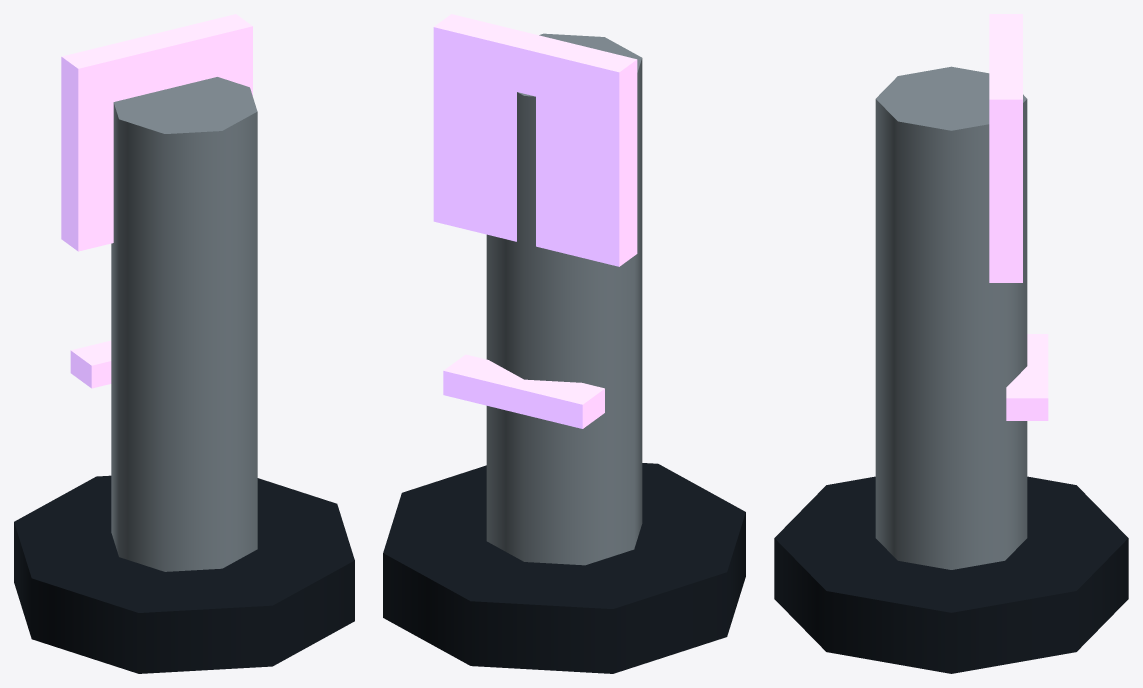
Rendered from np_z06_avantage_reparation.glb.
3 views of the same model, side by side, from view 1: azimuth 30°, elevation 25°; view 2: azimuth 150°, elevation 25°; view 3: azimuth 270°, elevation 25° (orthographic). The views are drawn at different scales.
Visible parts, largest first — view 1: Chassis, Socle, Pictogramme, BandeEtat; view 2: Socle, Chassis, Pictogramme, BandeEtat; view 3: Chassis, Socle, Pictogramme, BandeEtat.
Part boxes in pixels (x1,y1,x2,y2): Chassis: (111, 77, 257, 571); Socle: (14, 475, 354, 673); Pictogramme: (61, 14, 252, 251); BandeEtat: (70, 340, 111, 388); Socle: (383, 463, 745, 673); Chassis: (486, 33, 642, 565); Pictogramme: (433, 14, 637, 266); BandeEtat: (443, 354, 604, 428); Chassis: (875, 66, 1027, 569); Socle: (774, 476, 1128, 673); Pictogramme: (989, 14, 1022, 282); BandeEtat: (1006, 334, 1048, 420).
Size of the model in its own units: 0.84 by 1.42 by 0.84.
